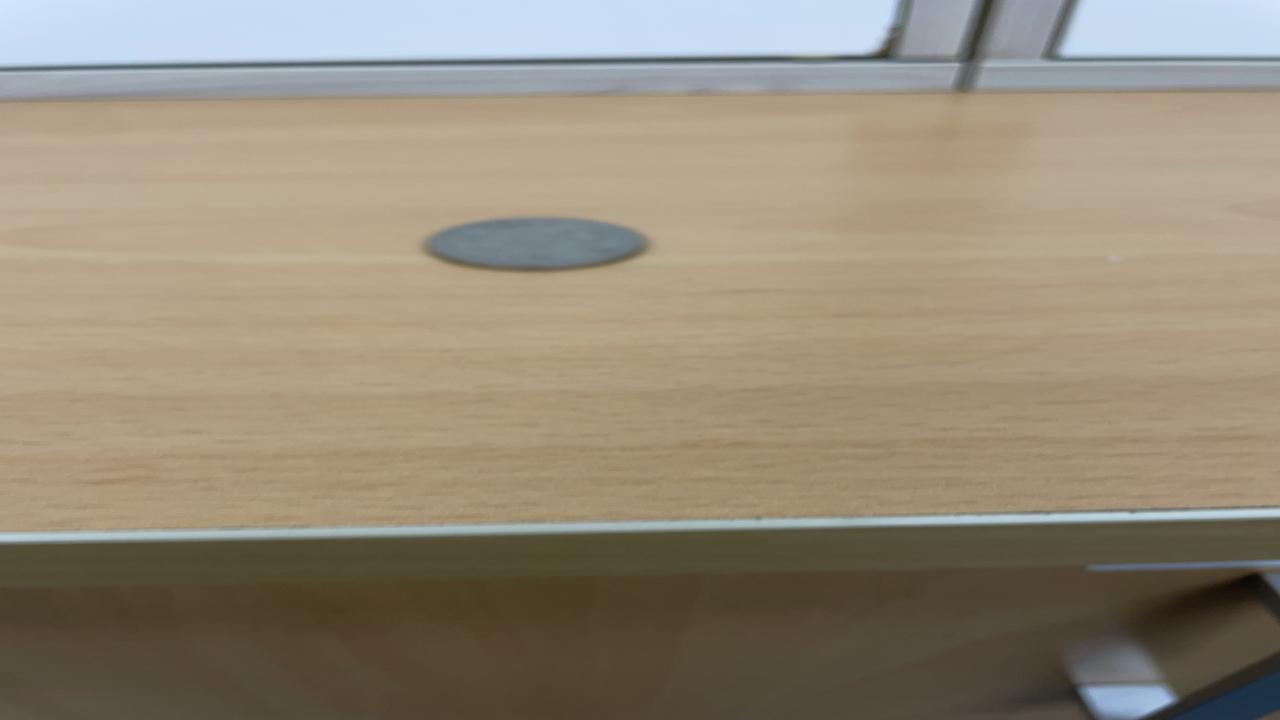coin: (420, 214, 656, 273)
